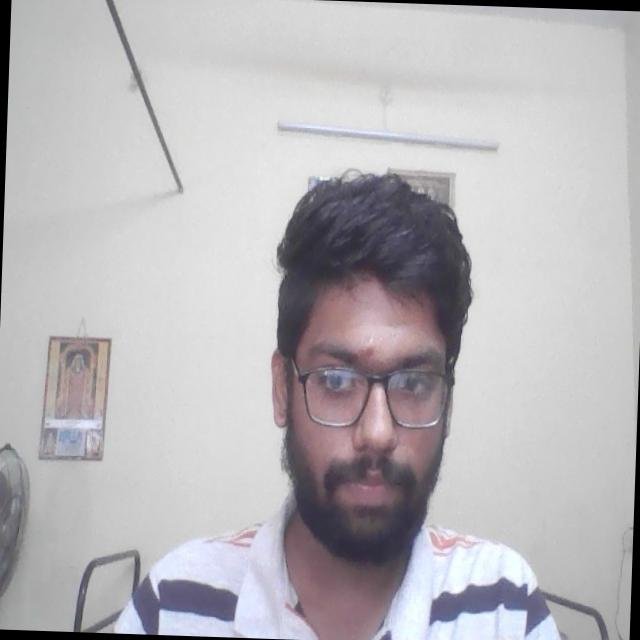Focused: (272, 277, 468, 536)
